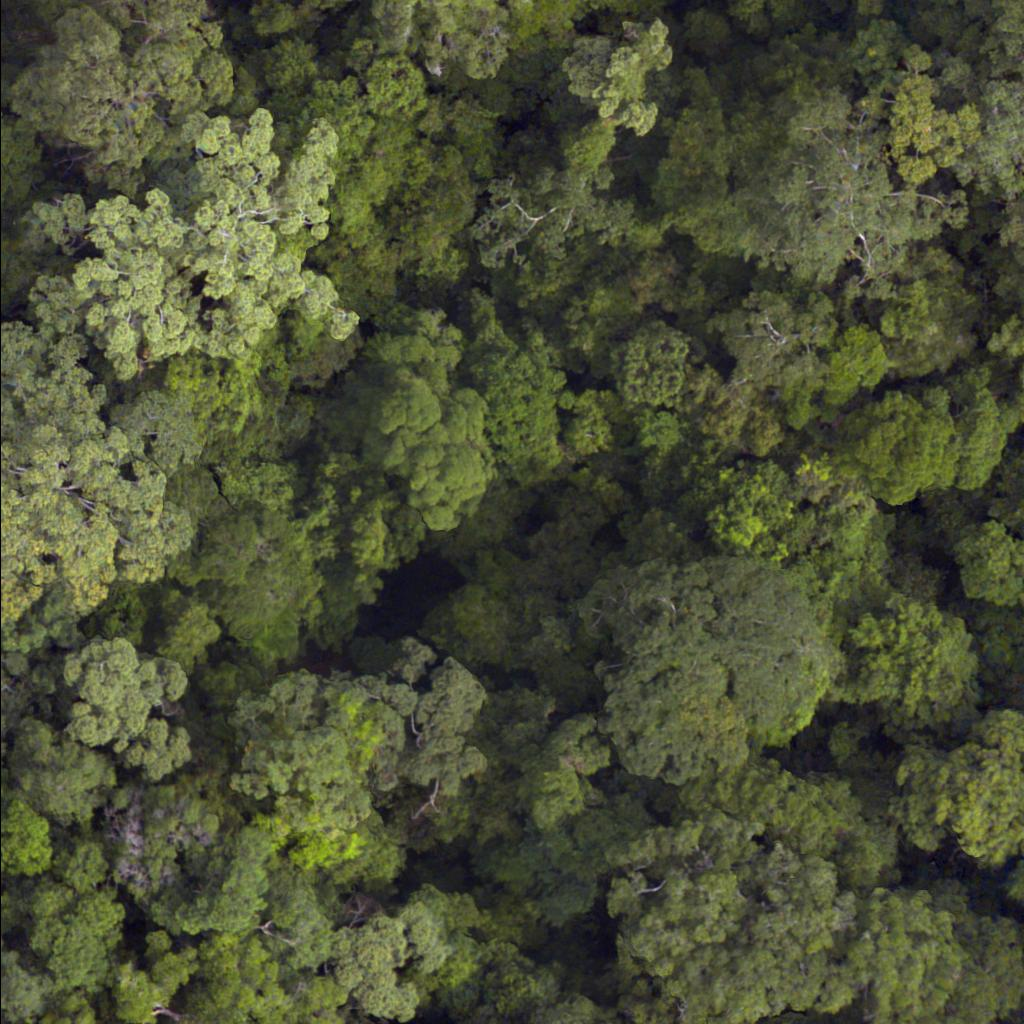crown: (29, 116, 348, 381), (578, 522, 836, 789), (0, 318, 195, 649), (617, 828, 854, 1023), (316, 302, 499, 530), (736, 92, 937, 289), (108, 931, 358, 1023), (54, 637, 197, 793), (822, 398, 961, 516), (13, 730, 109, 831), (717, 305, 824, 386), (973, 258, 1023, 415), (601, 327, 692, 403), (0, 794, 56, 883), (966, 0, 1023, 86), (0, 642, 29, 775), (986, 444, 1023, 534), (1011, 605, 1023, 619)
